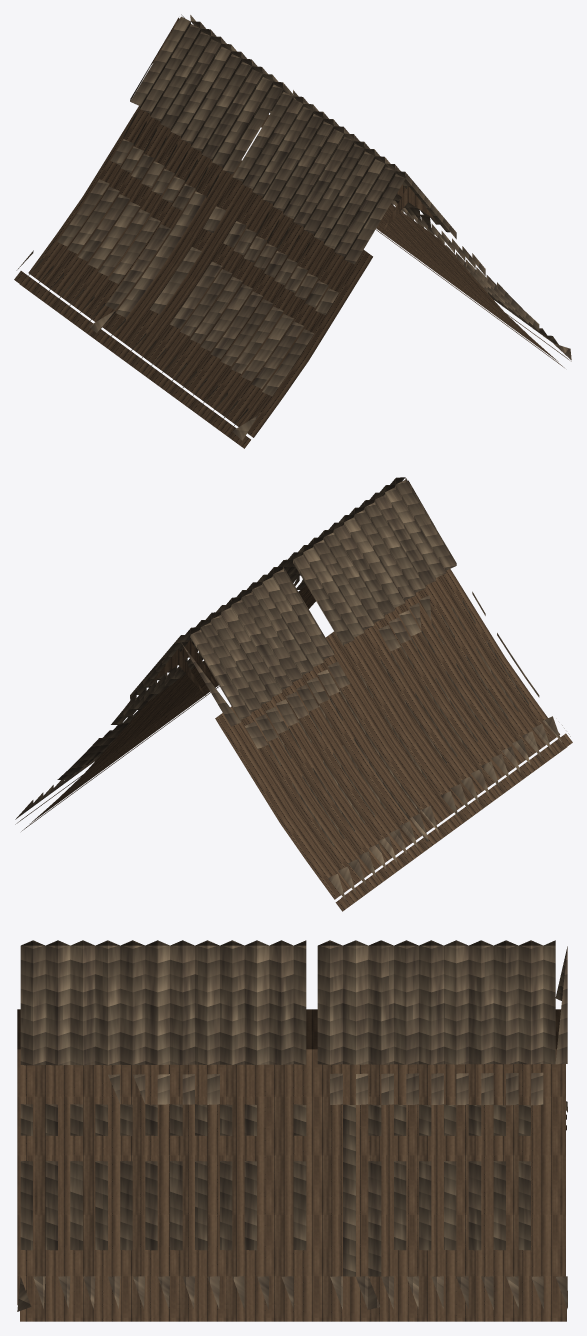
The model's file is Roof_Shingle_8x10_LOD1.gltf.
3 views of the same model, one above another, from view 1: azimuth 30°, elevation 25°; view 2: azimuth 150°, elevation 25°; view 3: azimuth 270°, elevation 25° (orthographic). The views are drawn at different scales.
Visible parts, largest first — view 1: Roof_Shingle_8x10_LOD1; view 2: Roof_Shingle_8x10_LOD1; view 3: Roof_Shingle_8x10_LOD1.
Part boxes in pixels (x1,y1,x2,y2): Roof_Shingle_8x10_LOD1: [14, 14, 571, 448]; Roof_Shingle_8x10_LOD1: [15, 477, 572, 911]; Roof_Shingle_8x10_LOD1: [17, 940, 567, 1321].
Size of the model in its own units: 9.95 by 6.54 by 11.71.
Materials: 2 (2 with a texture image).
